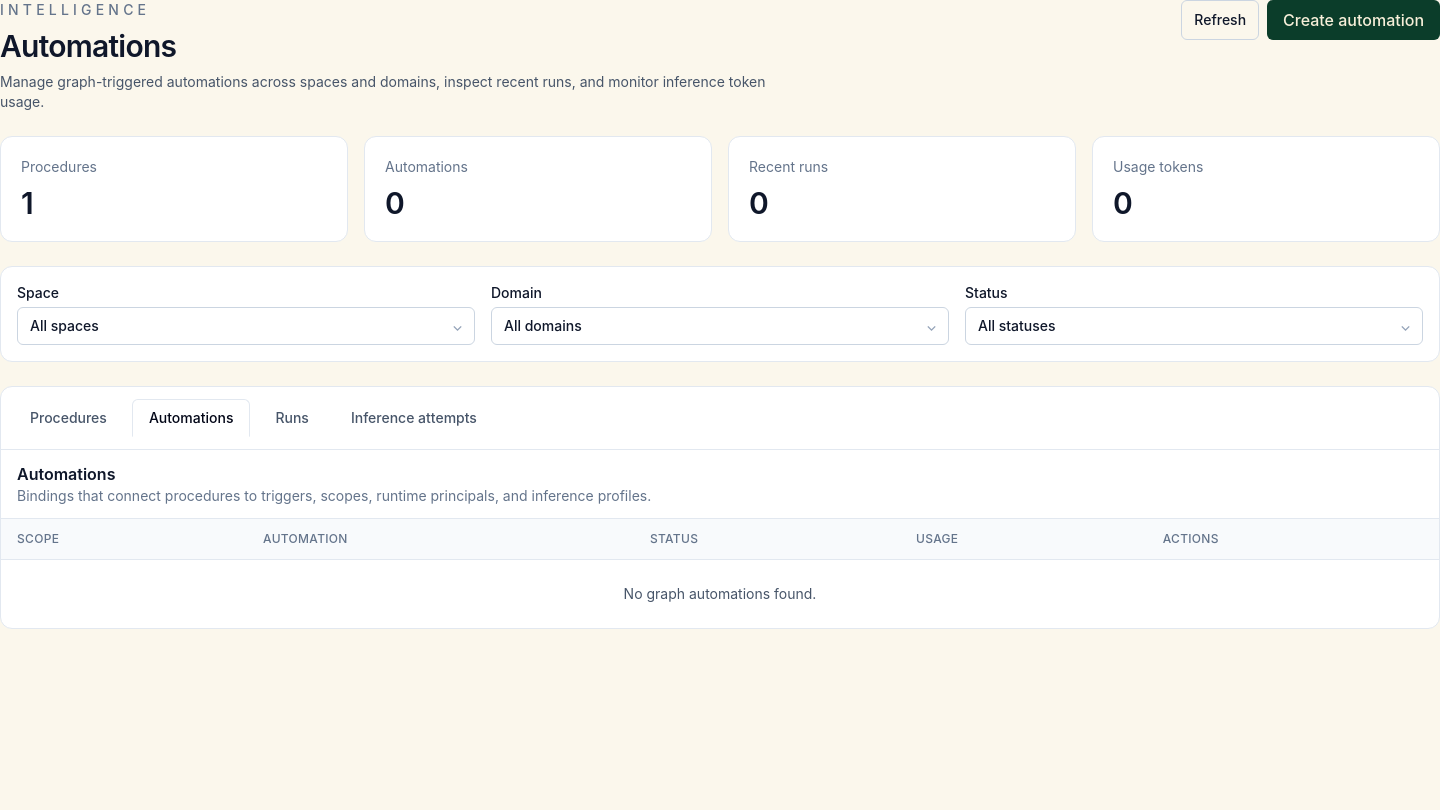
preserves authorization failures from procedure controls
The image size is (1440, 810).
Click the tab "Procedures": (68, 418) x1=13 y1=399 x2=124 y2=437
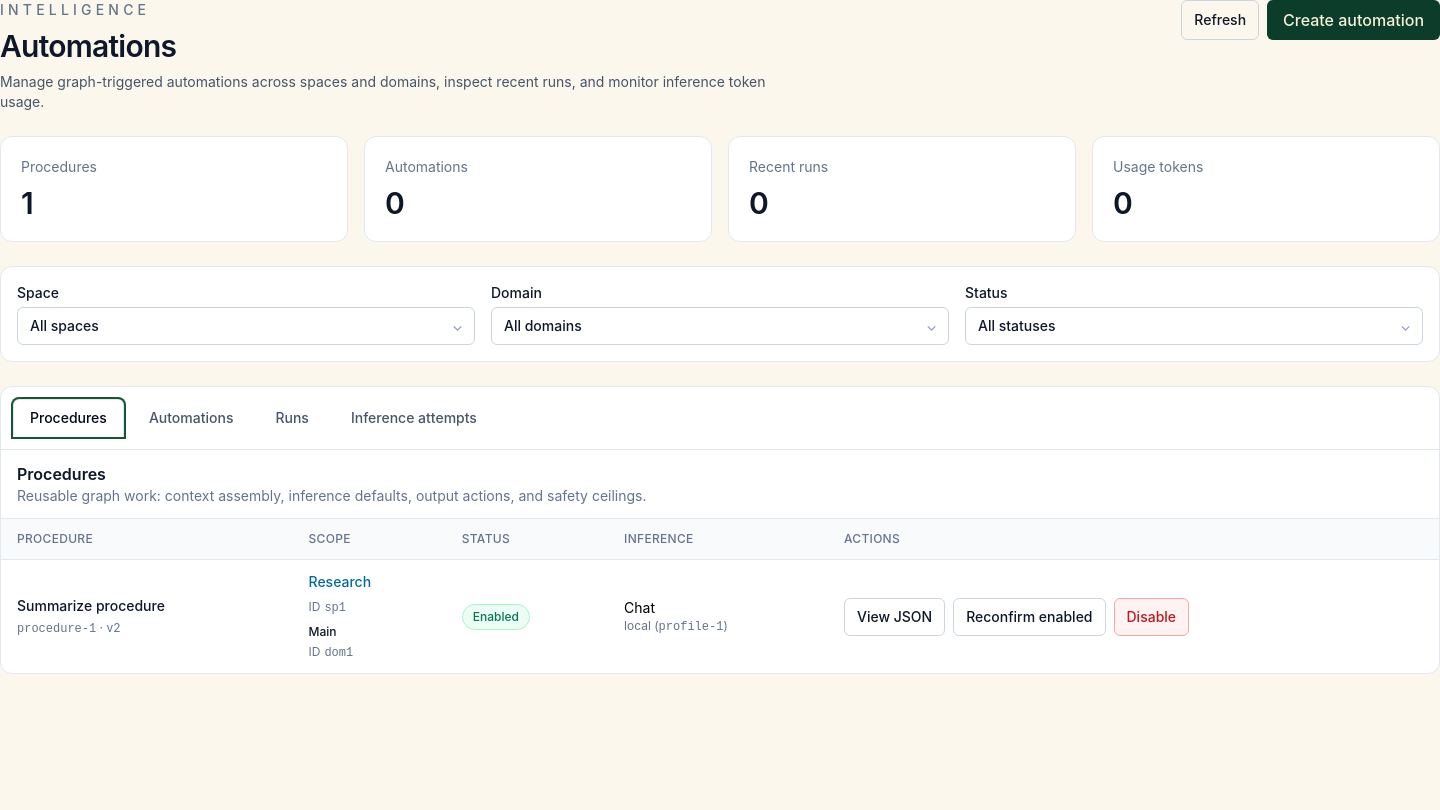
Click the button "Disable": (1151, 616) x1=1114 y1=598 x2=1189 y2=636
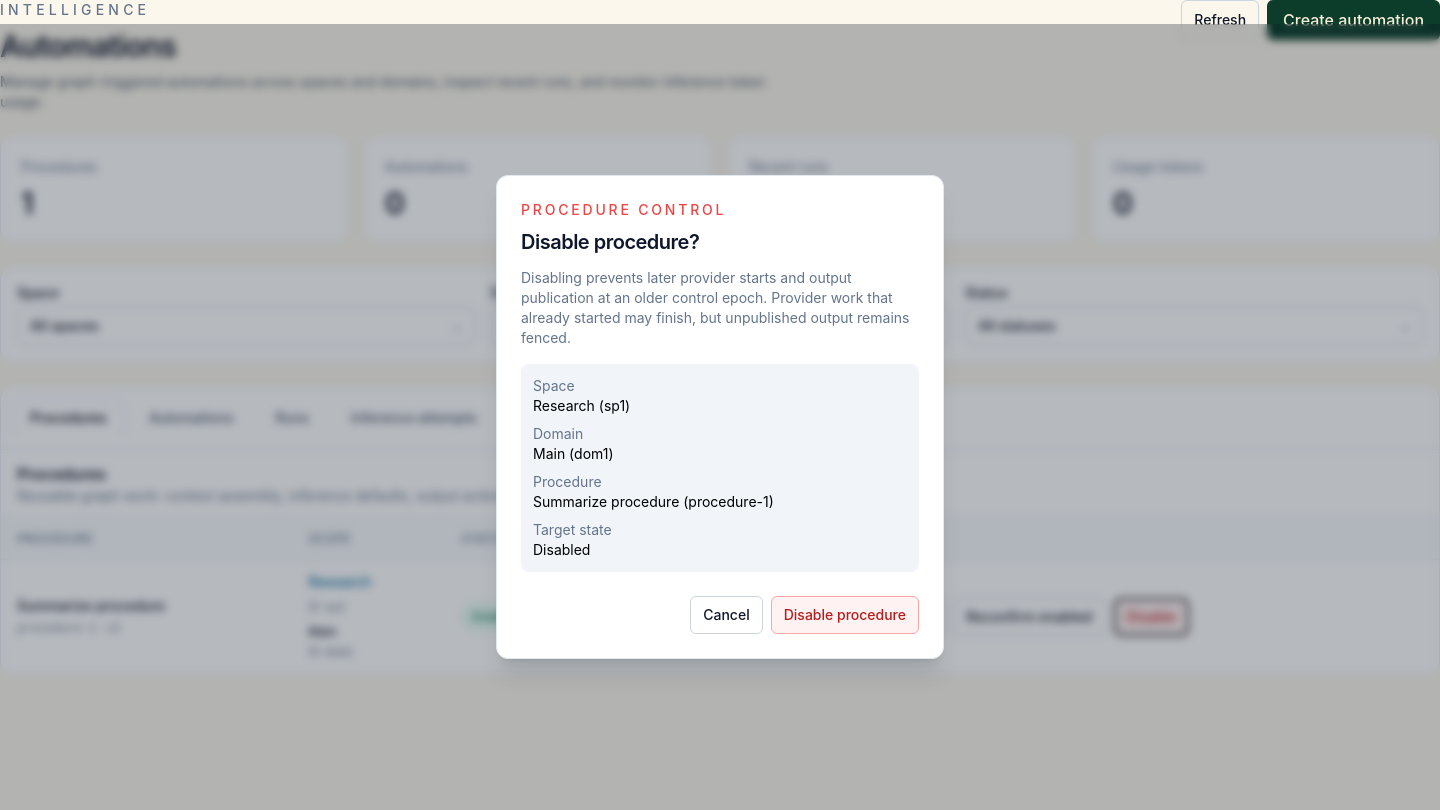
Click the button "Disable procedure": (845, 615) x1=771 y1=596 x2=919 y2=634
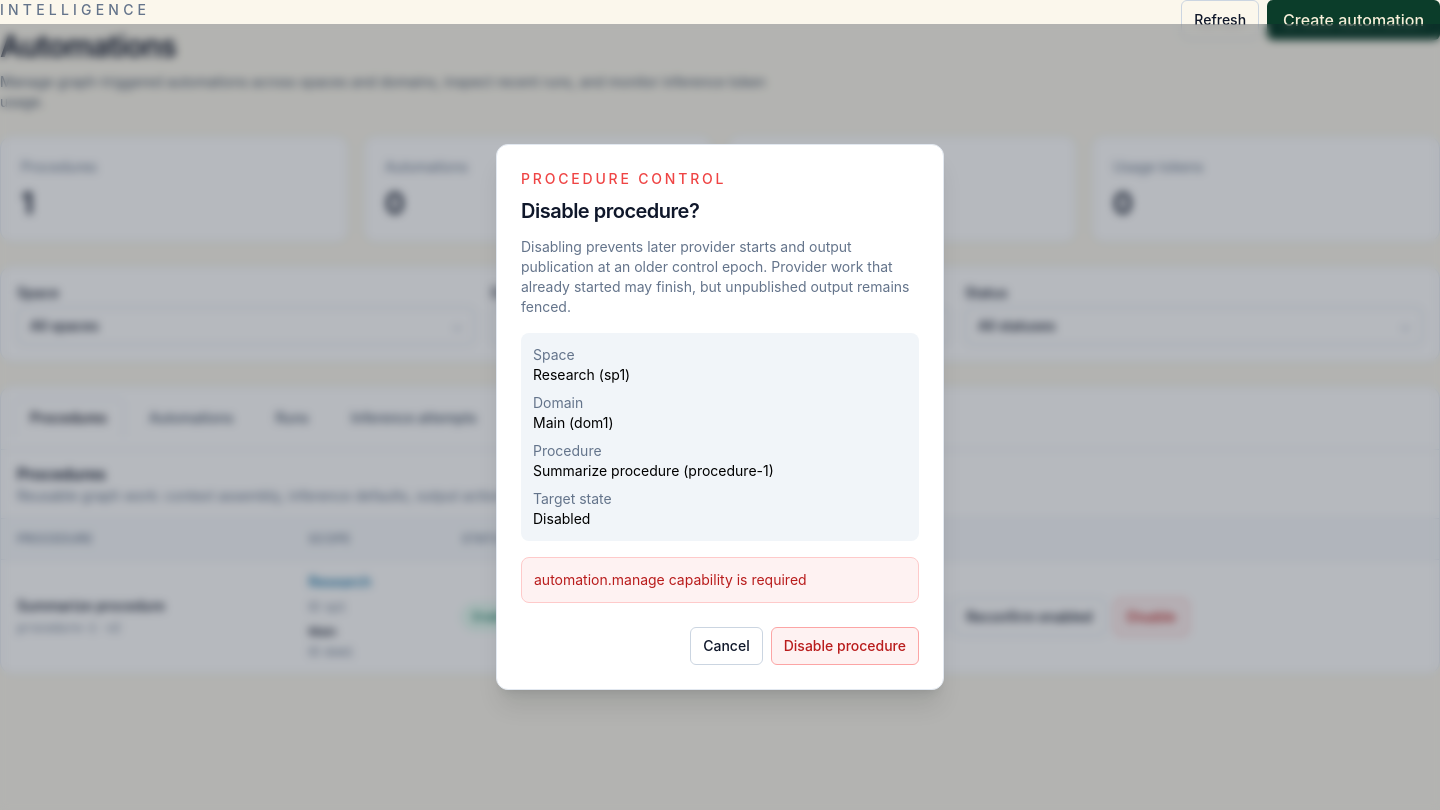
Expected: the text "automation.manage capability is required" is shown, x1=521 y1=557 x2=919 y2=603
